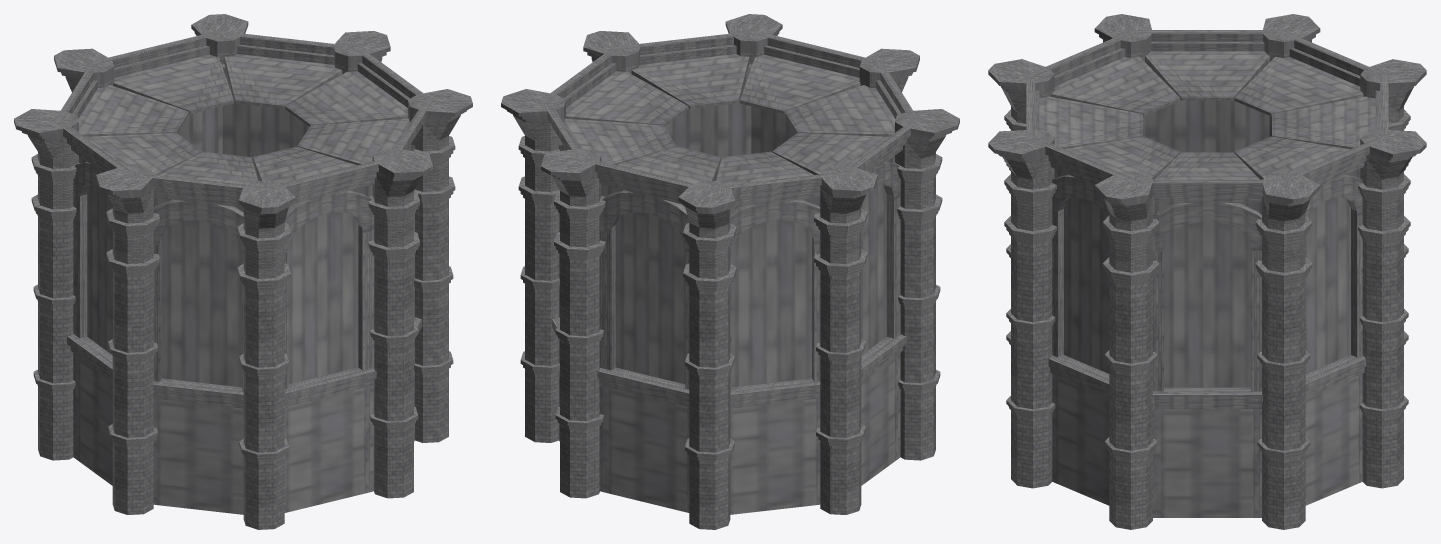
The model's file is TowerT.obj.
3 renders of one model, left to right at view 1: azimuth 30°, elevation 25°; view 2: azimuth 150°, elevation 25°; view 3: azimuth 270°, elevation 25°, orthographic. The views are drawn at different scales.
Parts seen in each view (by area): view 1: 平面.002_平面.006; view 2: 平面.002_平面.006; view 3: 平面.002_平面.006.
Part boxes in pixels (left/top/right/bottom): 平面.002_平面.006: left=14, top=14, right=472, bottom=529; 平面.002_平面.006: left=501, top=14, right=959, bottom=529; 平面.002_平面.006: left=988, top=14, right=1426, bottom=529.
Size of the model in its own units: 20.09 by 17.2 by 20.09.
Materials: 1 (1 with a texture image).
